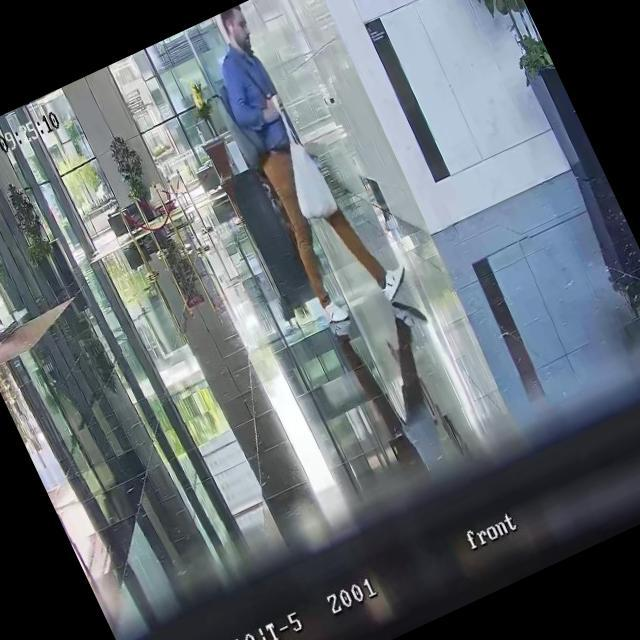person: (190, 0, 415, 332)
